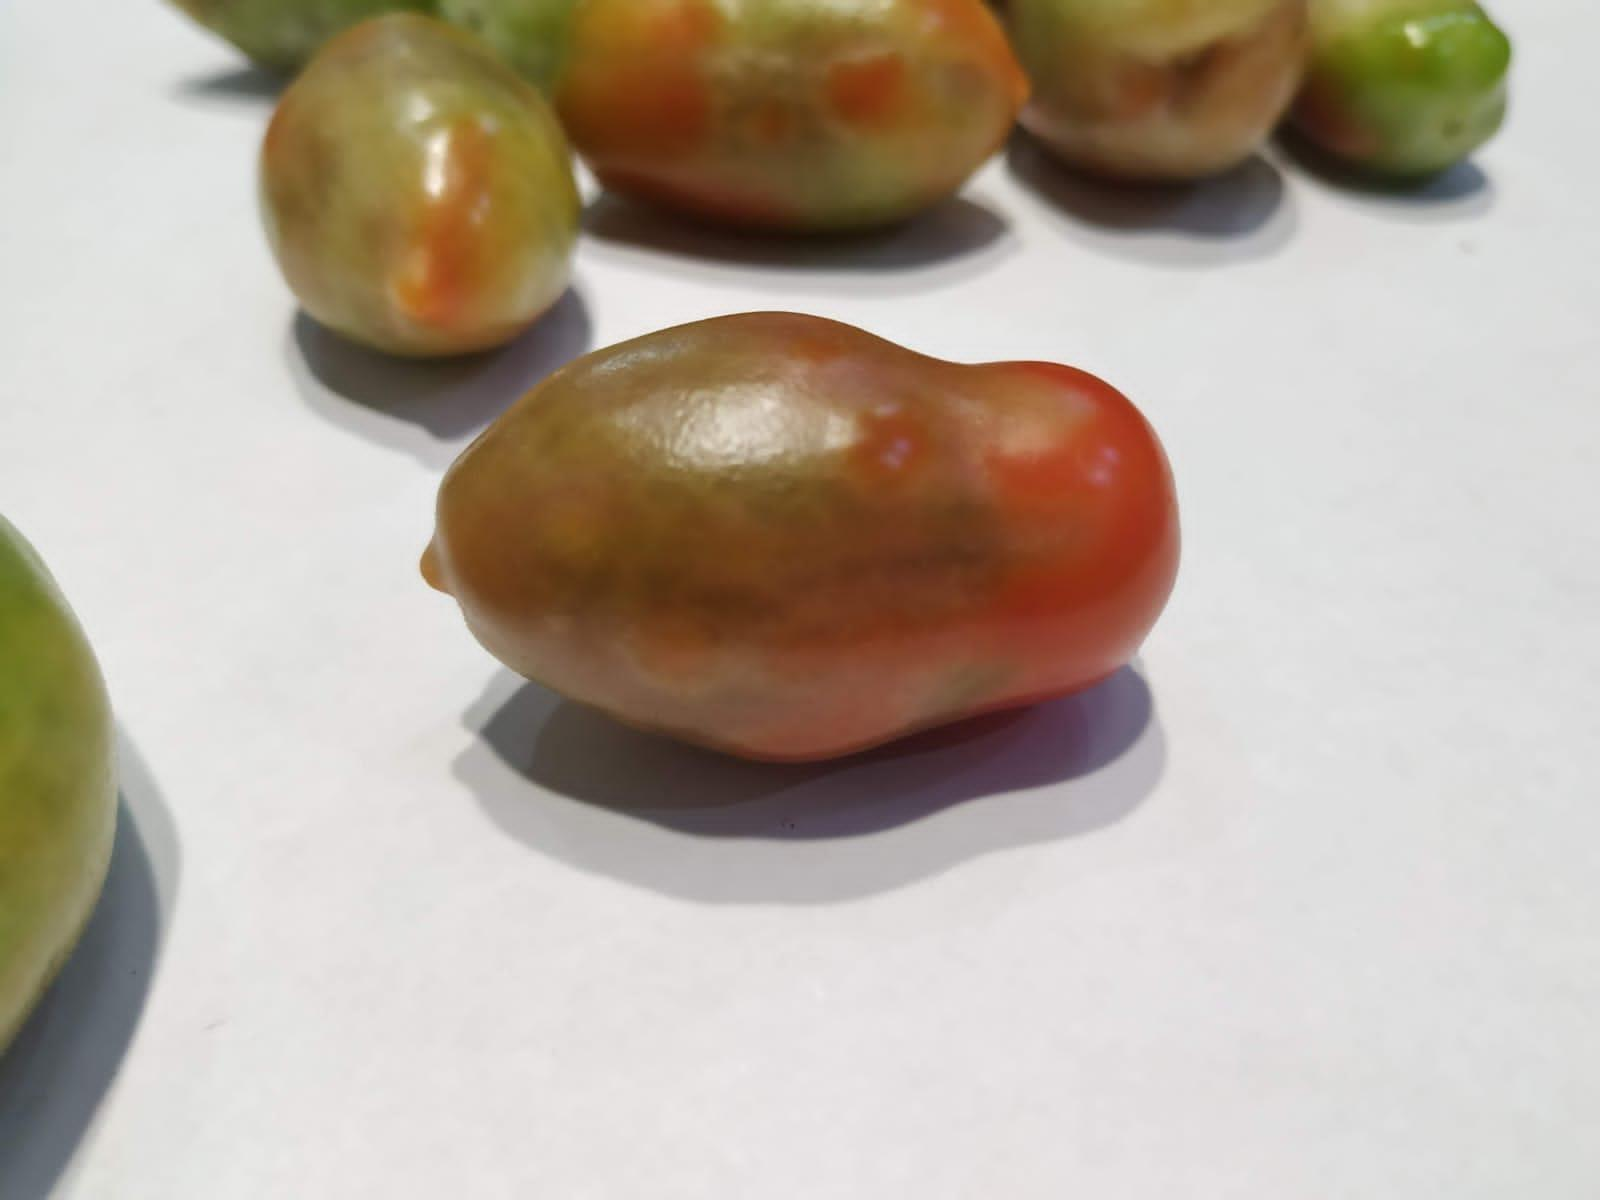Tomate Rugoso: (420, 310, 1180, 760)
